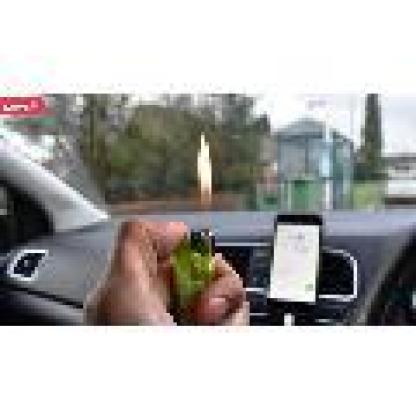Fire: (199, 128, 210, 212)
